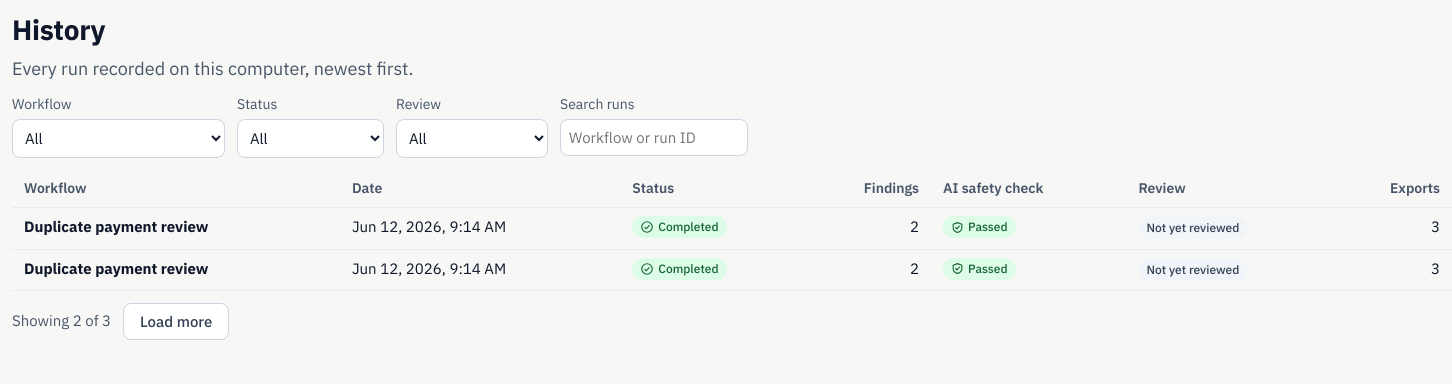
Test: HistoryPage paging (GW-13) › Load more fetches the next offset and appends rows
Expected: the text "Showing 2 of 3" is shown, x1=12 y1=310 x2=111 y2=333
Click the button "Load more". click: x=176, y=322
box: x1=123 y1=303 x2=229 y2=340
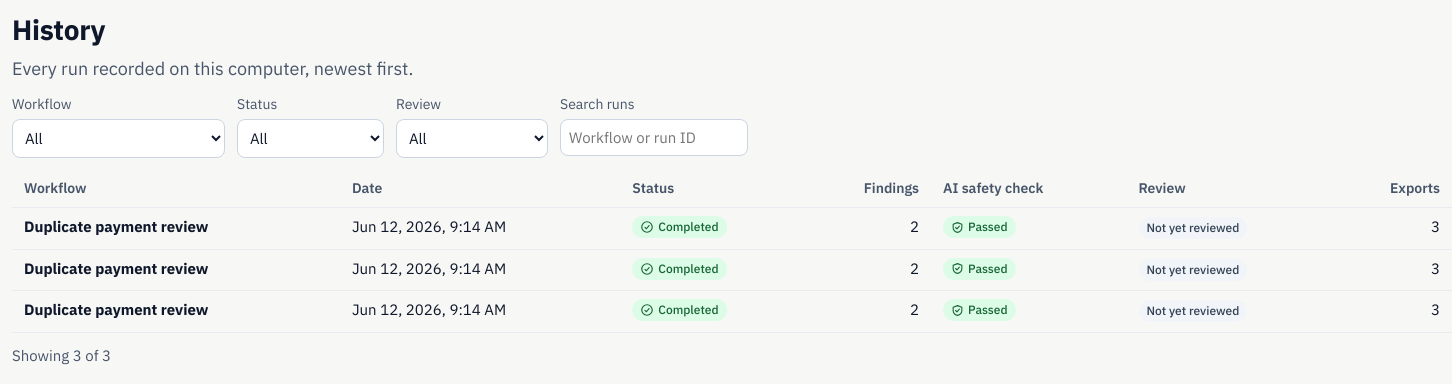
Now the text "Showing 3 of 3" is shown, box x1=12 y1=344 x2=111 y2=367
Now the button "Load more" is gone
